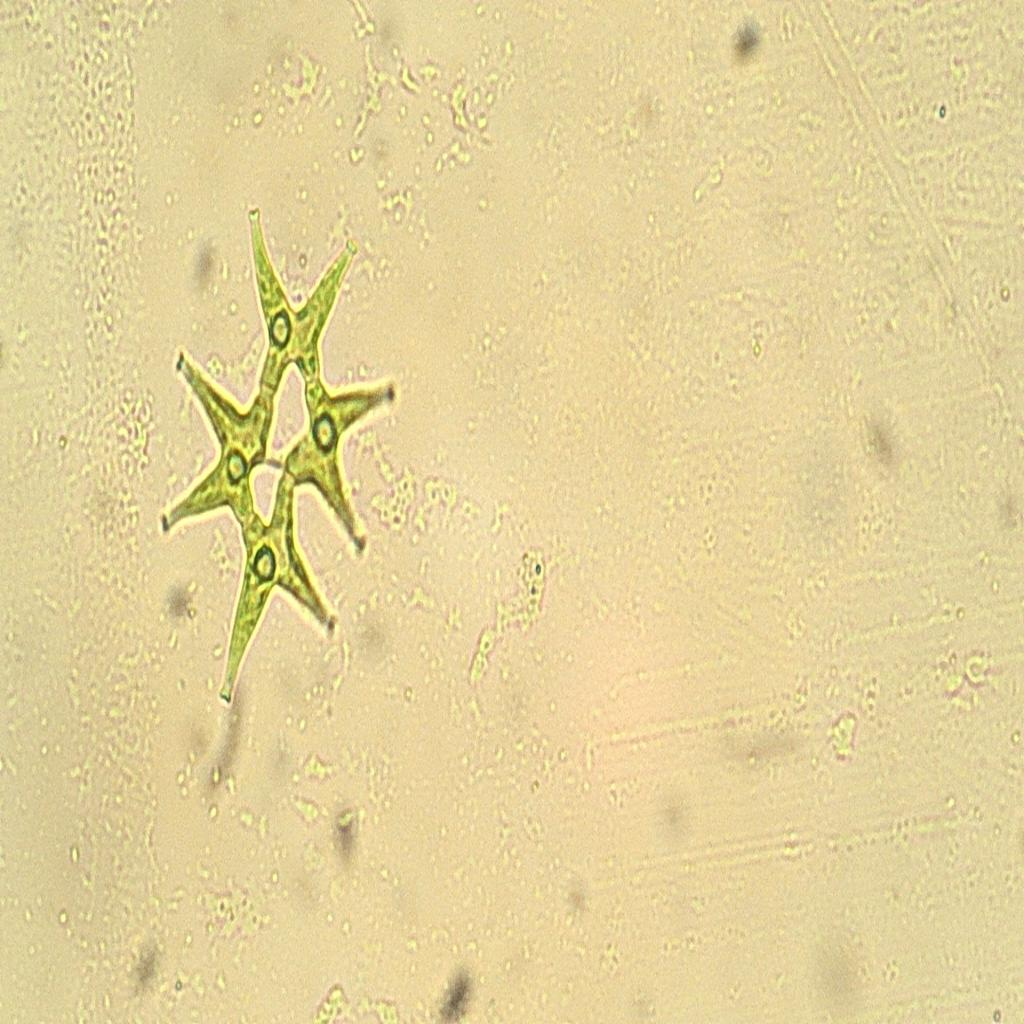Pediastrum_75FO: (135, 185, 421, 735)
